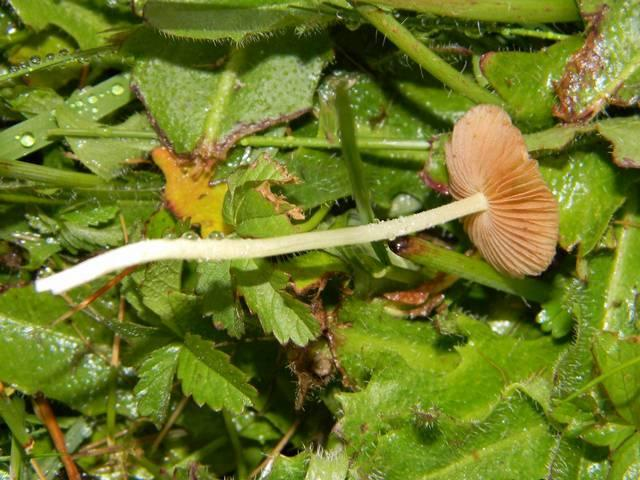edible_mushroom: (34, 102, 560, 296)
